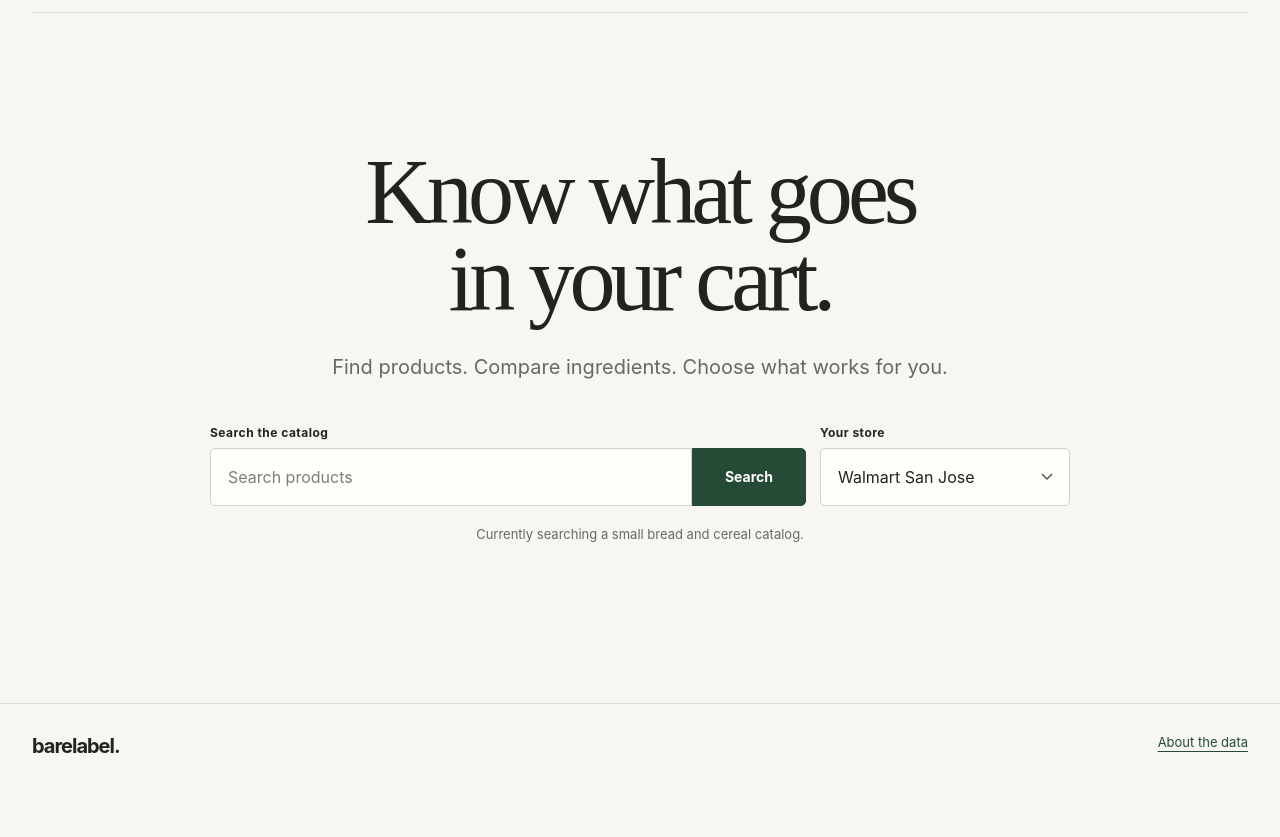
Test case: search-first shopper flow › ignores a stale search even if an adapter ignores abort
The image size is (1280, 837).
Type "bread" into the search field labelled "Search the catalog". click: {"x": 451, "y": 477}
box: [210,448,692,506]
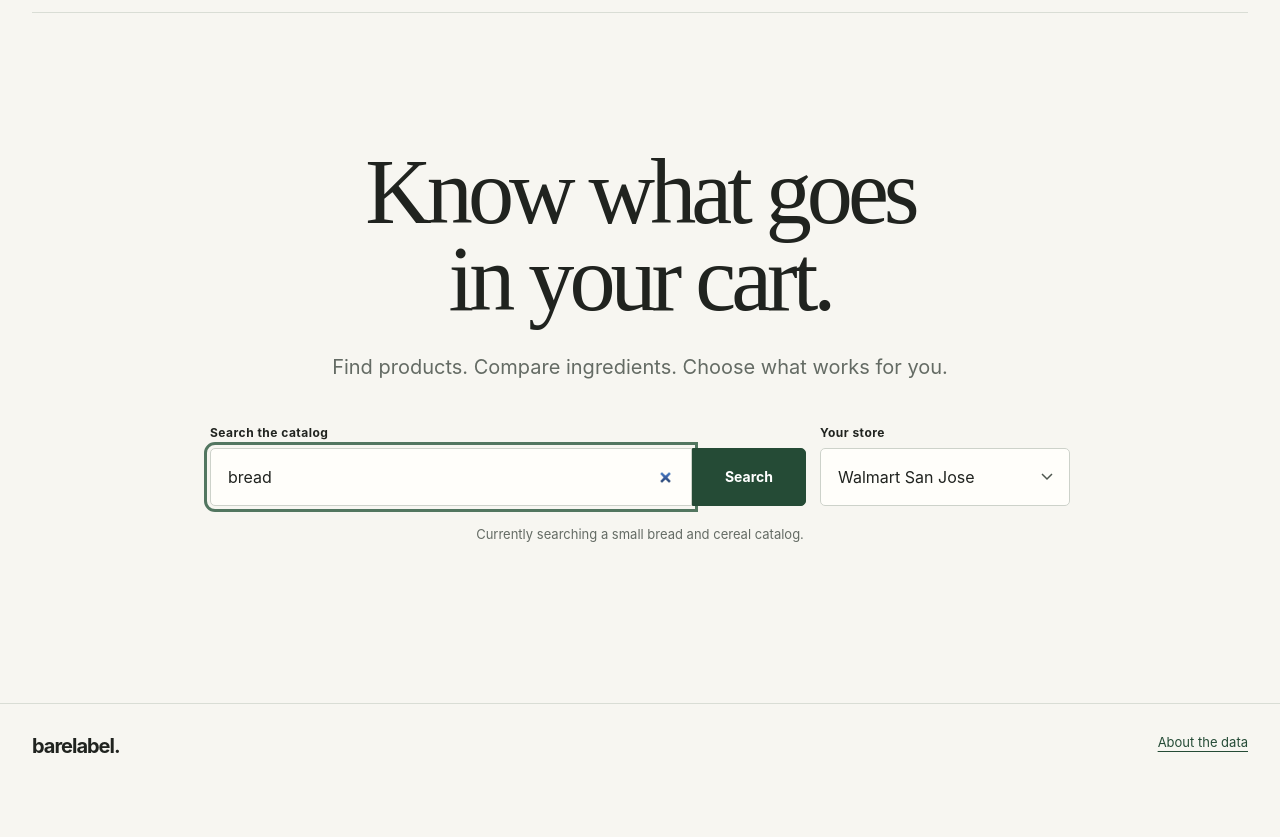
Click the button with aria-label "Search products". click: {"x": 749, "y": 477}
box: [692,448,806,506]
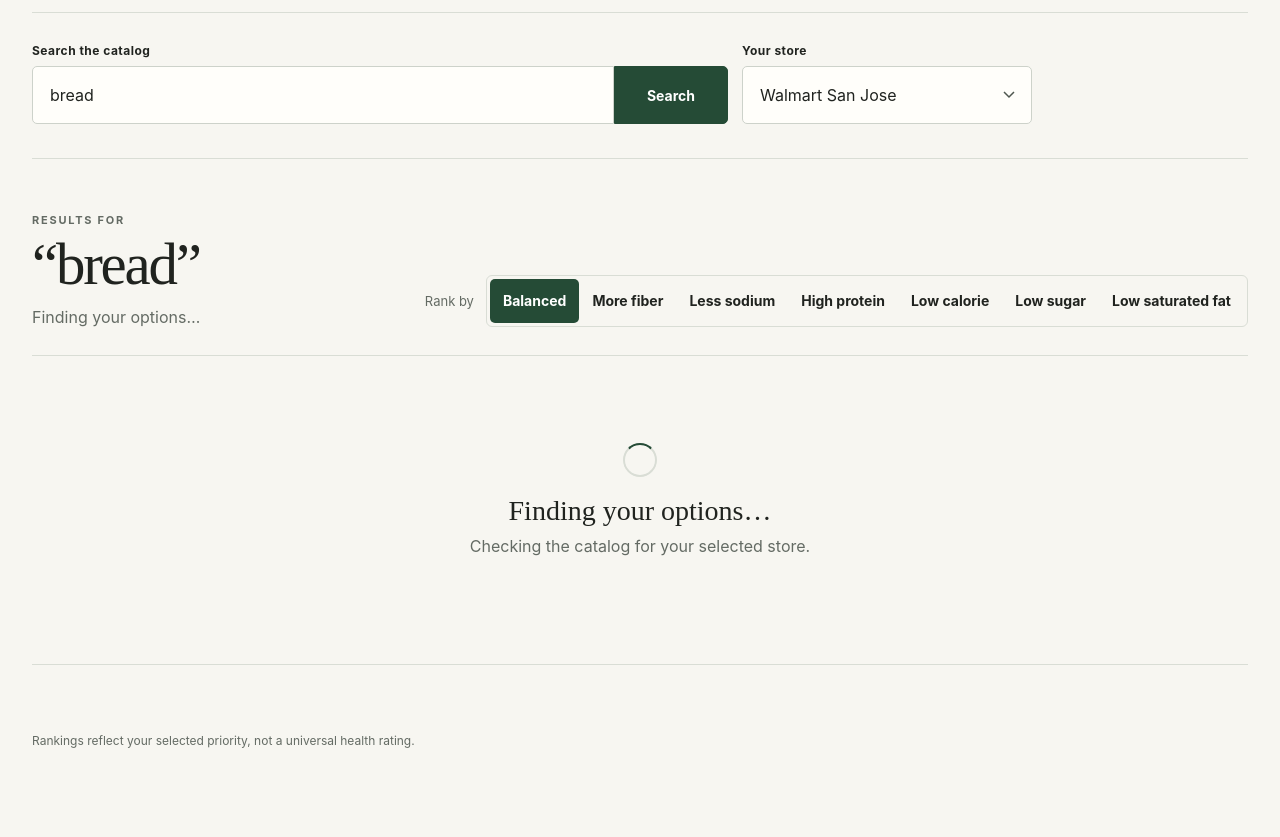
Replace the text in the search field labelled "Search the catalog" with "cereal". click: {"x": 323, "y": 95}
box: [32,66,614,124]
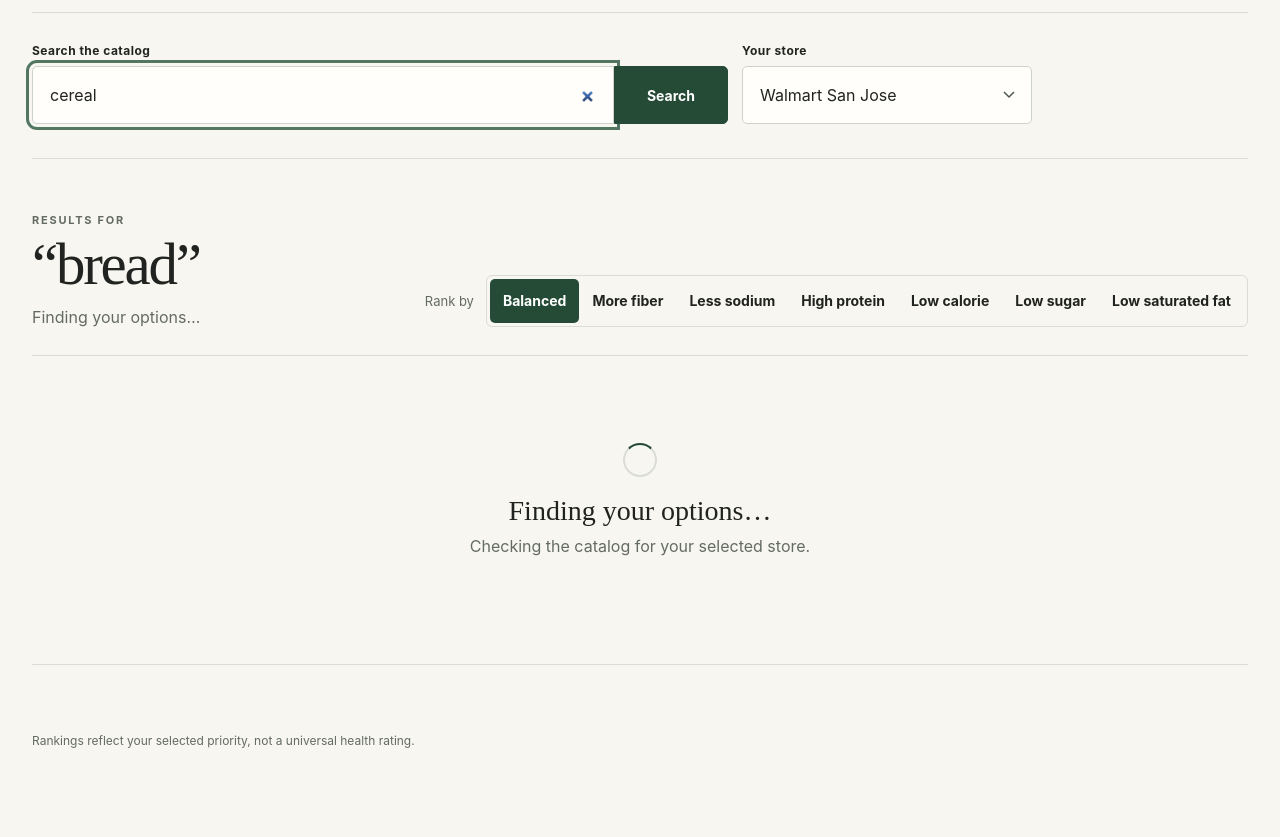
Press Enter
(page scrolled)
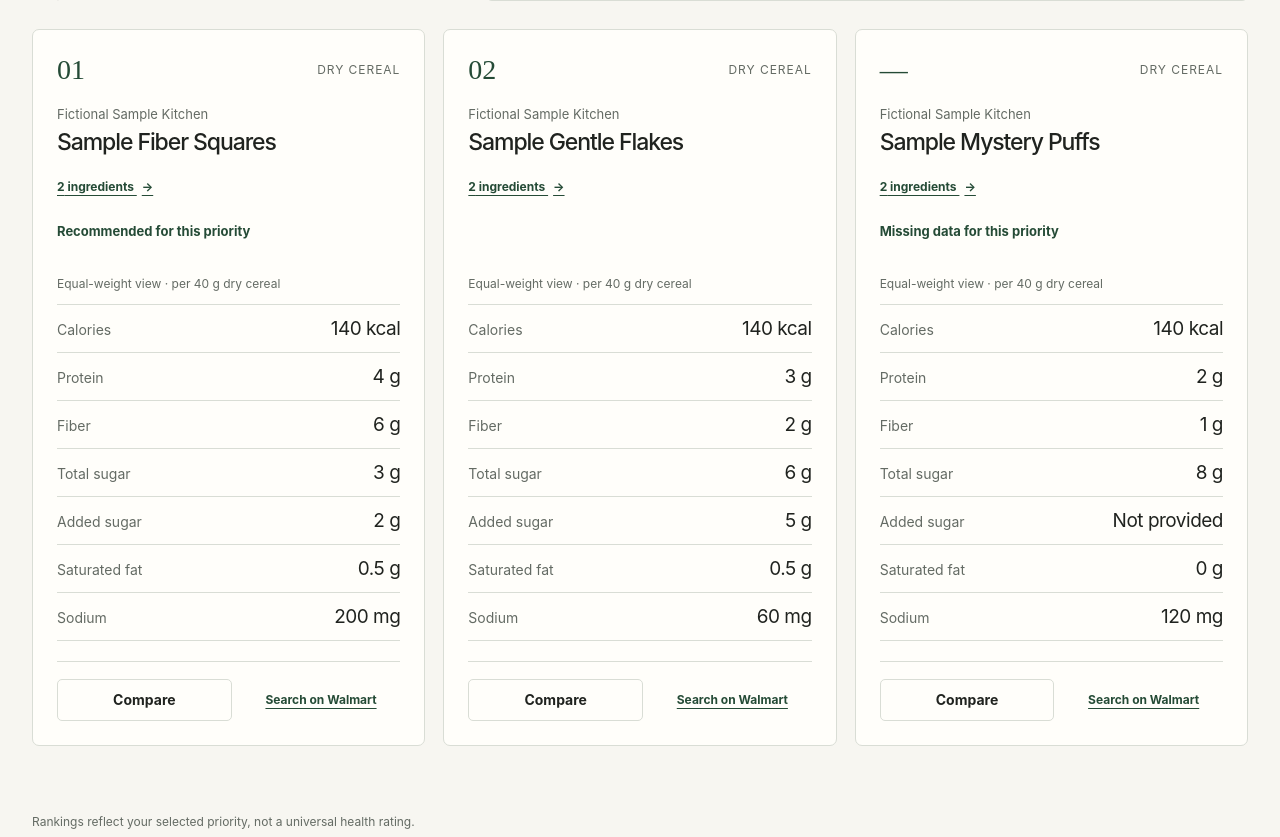
Check: the element "Sample Fiber Squares" is shown, box [32,29,425,746]
